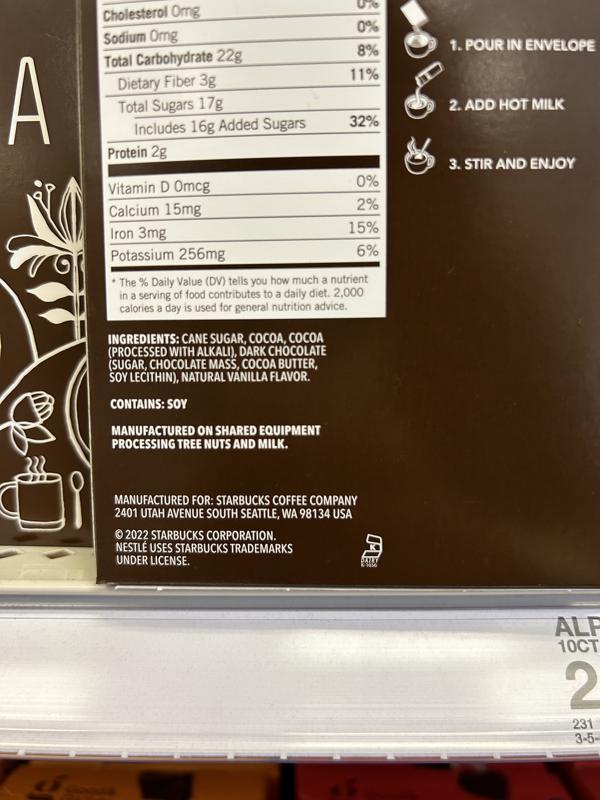ingredients: (103, 328, 330, 387)
